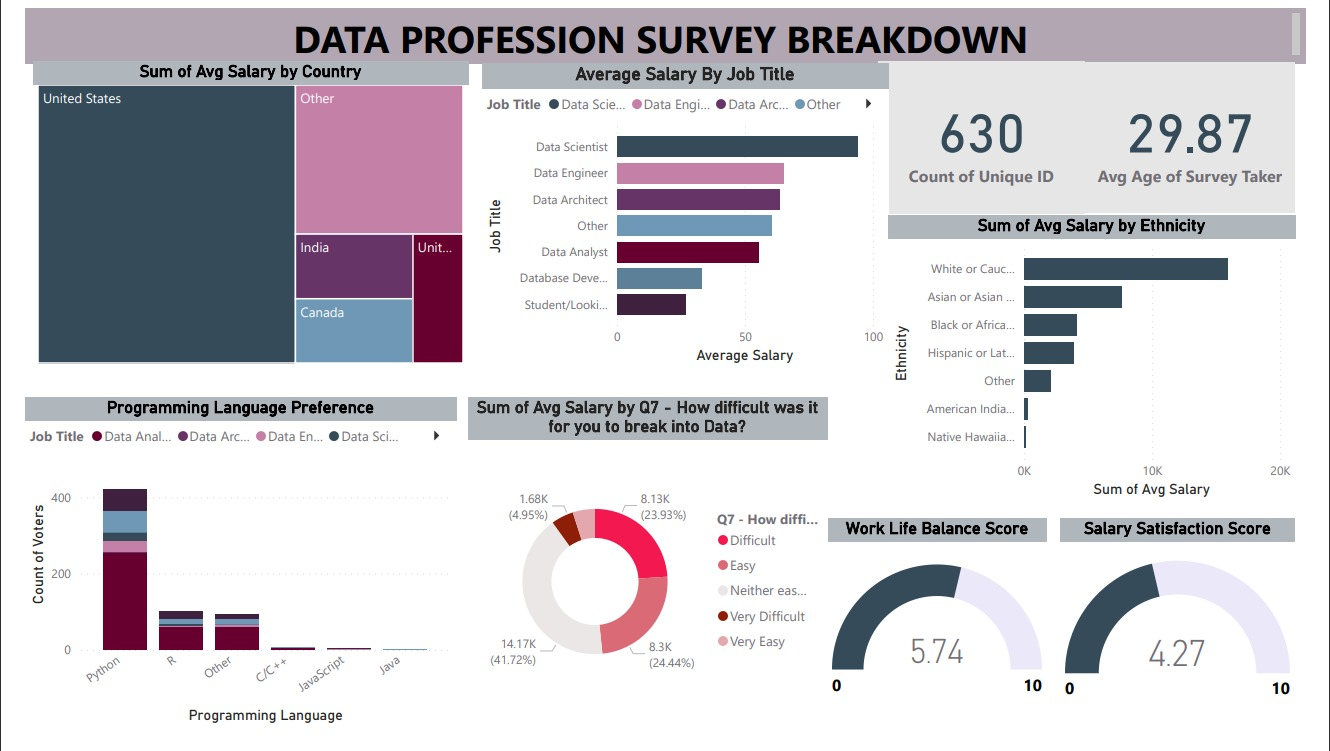

The dashboard page shown, as its layout file describes it:
{"tool":"powerbi","page":{"name":"Page 1","canvas":[1280,720],"ordinal":0},"visuals":[{"type":"textbox","box":[0,0,1280,54.6],"z":0},{"type":"card","fields":{"Values":["Avg(Data Professional Survey.Q10 - Current Age)"]},"box":[1060.2,54,209.5,150.4],"z":1000},{"type":"card","fields":{"Values":["CountNonNull(Data Professional Survey.Unique ID)"]},"box":[853.1,53.5,207,151.3],"z":2000},{"type":"barChart","title":"Average Salary By Job Title","fields":{"Category":["Data Professional Survey.Q1 - Which Title Best Fits your Current Role?.1"],"Y":["Avg(Data Professional Survey.Avg Salary)"],"Series":["Data Professional Survey.Q1 - Which Title Best Fits your Current Role?.1"]},"box":[456.5,54.6,406.1,305.3],"z":3000},{"type":"columnChart","title":"Programming Language Preference","fields":{"Category":["Data Professional Survey.Q5 - Favorite Programming Language.1"],"Y":["CountNonNull(Data Professional Survey.Unique ID)"],"Series":["Data Professional Survey.Q1 - Which Title Best Fits your Current Role?.1"]},"box":[0,389.3,431.3,330.5],"z":4000},{"type":"treemap","fields":{"Group":["Data Professional Survey.Q11 - Which Country do you live in?.1"],"Values":["Sum(Data Professional Survey.Avg Salary)"]},"box":[8.4,53.2,434.1,306.7],"z":5000},{"type":"gauge","title":"Work Life Balance  Score","fields":{"Y":["Avg(Data Professional Survey.Q6 - How Happy are you in your Current Position with the following? (Work/Life Balance))"],"MinValue":["Min(Data Professional Survey.Q6 - How Happy are you in your Current Position with the following? (Work/Life Balance))"],"MaxValue":["Max(Data Professional Survey.Q6 - How Happy are you in your Current Position with the following? (Work/Life Balance))"]},"box":[802.5,509.8,219.9,210.1],"z":6000},{"type":"gauge","title":"Salary Satisfaction Score","fields":{"Y":["Avg(Data Professional Survey.Q6 - How Happy are you in your Current Position with the following? (Salary))"],"MinValue":["Min(Data Professional Survey.Q6 - How Happy are you in your Current Position with the following? (Salary))1"],"MaxValue":["Max(Data Professional Survey.Q6 - How Happy are you in your Current Position with the following? (Salary))2"]},"box":[1034.9,509.8,235.3,210.1],"z":7000},{"type":"donutChart","fields":{"Y":["Sum(Data Professional Survey.Avg Salary)"],"Series":["Data Professional Survey.Q7 - How difficult was it for you to break into Data?"]},"box":[442.5,389.3,359.9,330.5],"z":8000},{"type":"clusteredBarChart","fields":{"Category":["Data Professional Survey.Q13 - Ethnicity.1"],"Y":["Sum(Data Professional Survey.Avg Salary)"]},"box":[862.7,207.3,407.5,287.1],"z":9000}]}

Visuals, with their boxes in screenshot pixels (x1, y1, x2, y2), scaled from the page's 1280x720 canvas onto the 1330x751 screenshot:
textbox: [x1=0, y1=0, x2=1329, y2=57]
card - Avg(Data Professional Survey.Q10 - Current Age): [x1=1102, y1=56, x2=1319, y2=213]
card - CountNonNull(Data Professional Survey.Unique ID): [x1=886, y1=56, x2=1102, y2=214]
"Average Salary By Job Title" barChart: [x1=474, y1=57, x2=896, y2=375]
"Programming Language Preference" columnChart: [x1=0, y1=406, x2=448, y2=750]
treemap - Data Professional Survey.Q11 - Which Country do you live in?.1 x Sum(Data Professional Survey.Avg Salary): [x1=9, y1=55, x2=460, y2=375]
"Work Life Balance  Score" gauge: [x1=834, y1=532, x2=1062, y2=750]
"Salary Satisfaction Score" gauge: [x1=1075, y1=532, x2=1320, y2=750]
donutChart - Sum(Data Professional Survey.Avg Salary) x Data Professional Survey.Q7 - How difficult was it for you to break into Data?: [x1=460, y1=406, x2=834, y2=750]
clusteredBarChart - Data Professional Survey.Q13 - Ethnicity.1 x Sum(Data Professional Survey.Avg Salary): [x1=896, y1=216, x2=1320, y2=516]
